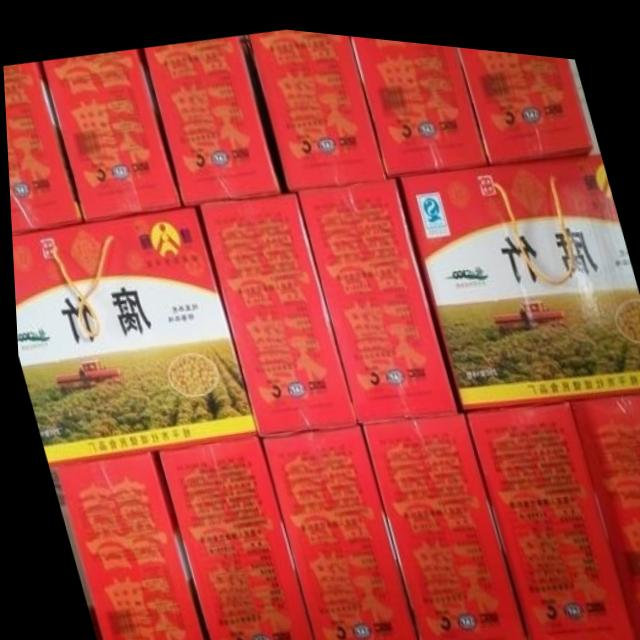box: (9, 199, 254, 464), (399, 140, 640, 399), (460, 386, 632, 640), (194, 183, 357, 434), (294, 172, 454, 420), (254, 414, 416, 640), (152, 433, 308, 640), (48, 447, 202, 640), (42, 48, 182, 218), (145, 30, 278, 200), (248, 24, 382, 182), (350, 29, 485, 169), (565, 379, 640, 627), (458, 37, 592, 155), (3, 60, 81, 232)
